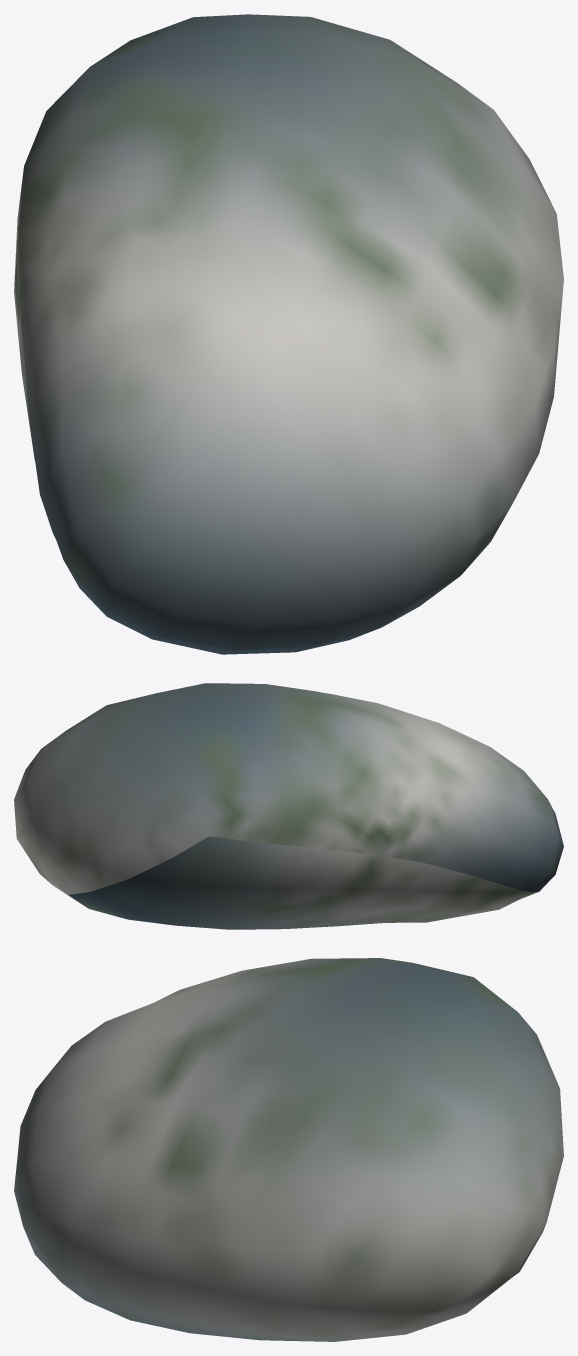
Rendered from Sea rock3.fbx.
3 views of the same model, one above another, from view 1: azimuth 30°, elevation 25°; view 2: azimuth 150°, elevation 25°; view 3: azimuth 270°, elevation 25° (orthographic). The views are drawn at different scales.
Parts seen in each view (by area): view 1: OceanRock; view 2: OceanRock; view 3: OceanRock.
Boxes of the visible parts, x1,y1,x2,y2 form: OceanRock: (14, 14, 563, 654); OceanRock: (14, 683, 563, 929); OceanRock: (14, 958, 563, 1341).
Size of the model in its own units: 122 by 79.25 by 117.
